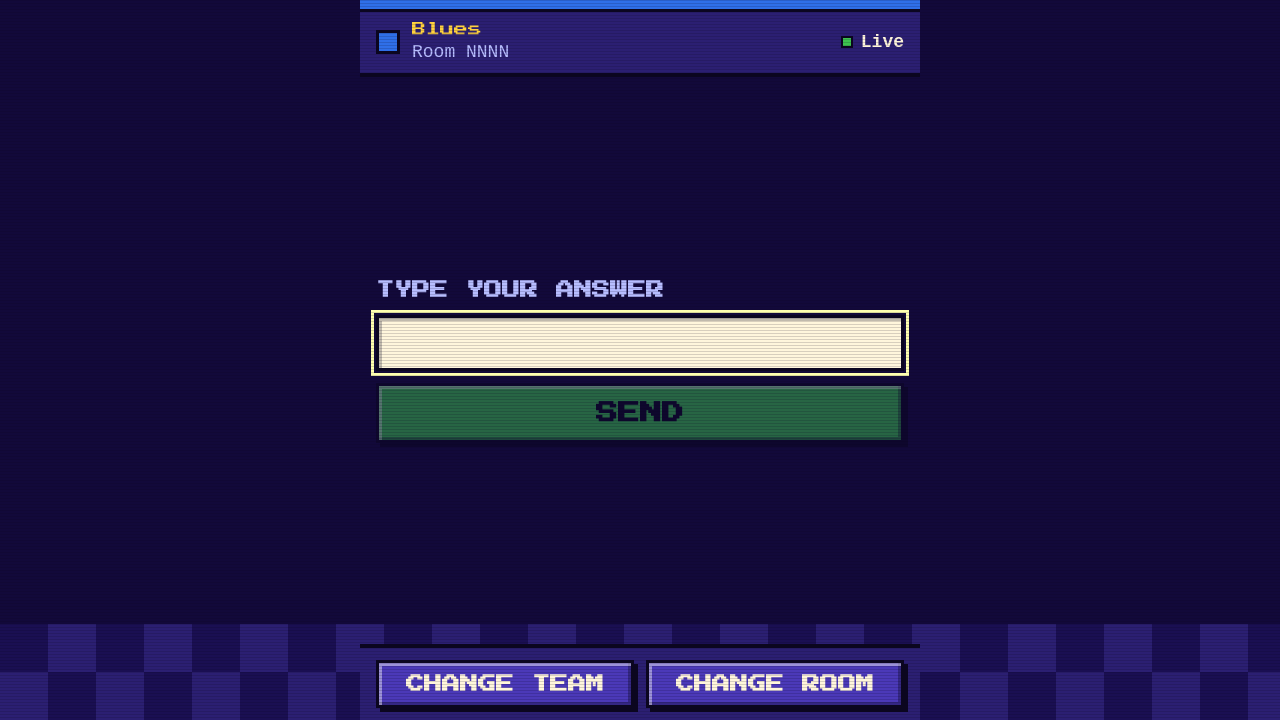
Test: Feud typing › shows an answer box instead of BUZZ when the stage says TYPE YOUR ANSWER, and sends feud-answer
Expected: the text "Live" is shown, [841,30,904,55]
Type "Pizza" into the field labelled "TYPE YOUR ANSWER". click: point(640, 343)
box: [376,315,904,371]
Then press Enter
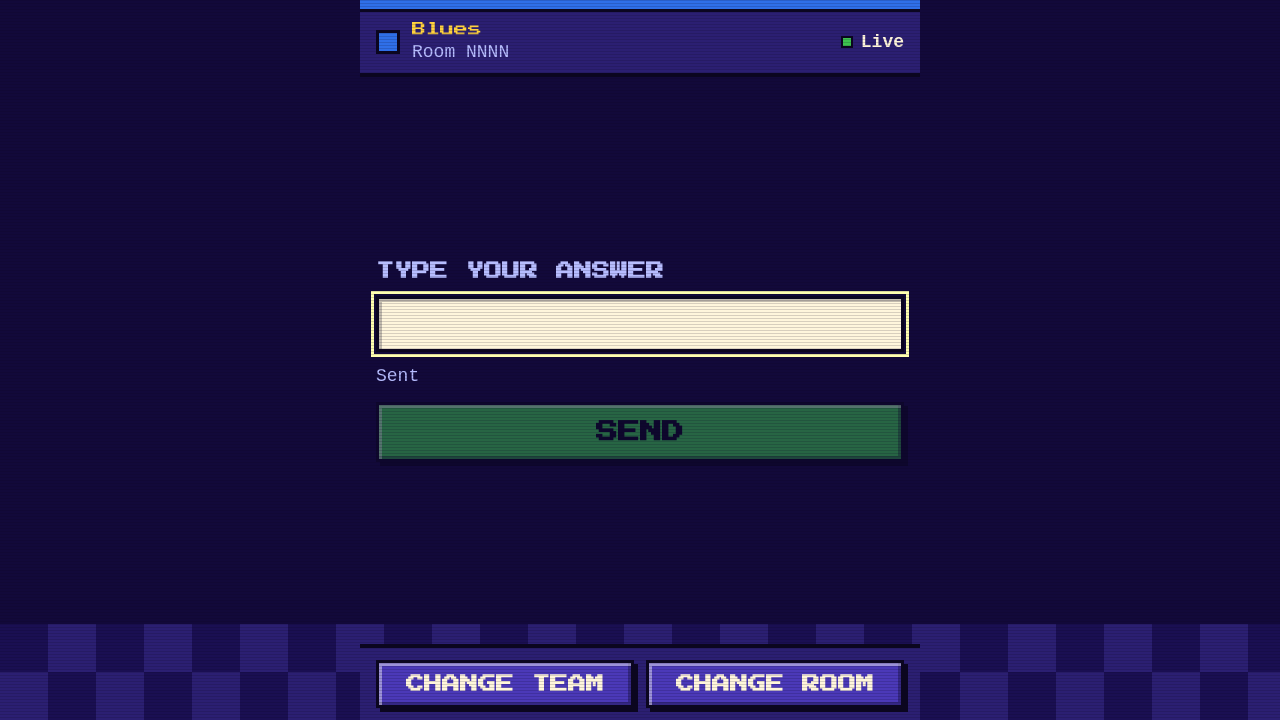
Expected: the field labelled "TYPE YOUR ANSWER" is empty, [376,296,904,352]
Expected: the text "Sent" is shown, [376,366,419,386]
